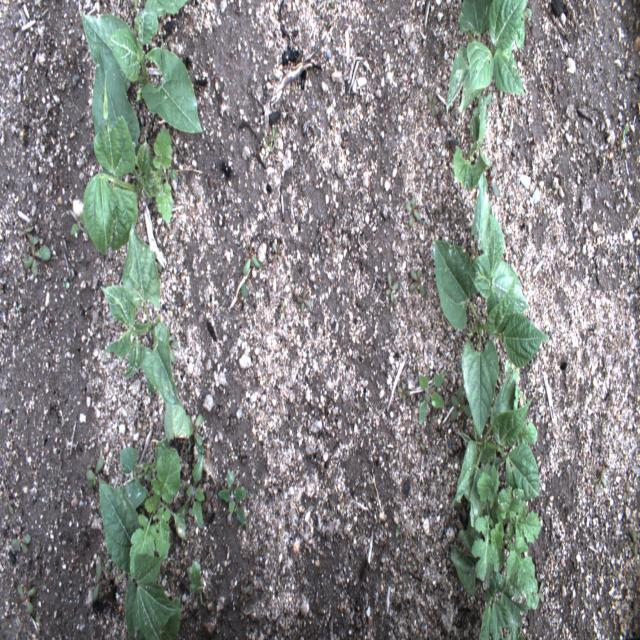crop: (434, 170, 550, 439), (100, 220, 190, 443), (83, 45, 161, 256), (450, 354, 540, 528), (99, 482, 179, 639), (446, 0, 526, 113), (450, 543, 530, 639), (453, 111, 490, 191), (144, 0, 189, 16), (134, 0, 138, 11)
weed: (80, 8, 204, 132), (460, 464, 542, 609), (117, 438, 190, 582), (140, 128, 178, 220), (217, 468, 249, 526), (418, 369, 447, 429), (183, 453, 204, 530), (22, 234, 52, 278), (90, 560, 111, 602), (161, 598, 182, 640), (450, 385, 472, 423), (86, 455, 108, 490), (17, 582, 37, 616), (242, 242, 261, 276), (185, 412, 203, 447), (472, 91, 492, 122), (69, 208, 90, 237), (188, 558, 204, 596), (516, 421, 538, 448), (405, 196, 422, 227), (409, 267, 426, 297), (591, 464, 607, 494), (10, 533, 32, 554), (384, 271, 398, 303), (488, 161, 500, 197), (164, 333, 178, 362), (17, 220, 34, 240), (297, 289, 312, 310), (426, 91, 438, 117), (238, 584, 252, 606), (397, 381, 411, 403), (194, 439, 205, 465), (24, 234, 39, 253), (3, 492, 15, 515), (270, 241, 282, 263), (414, 432, 426, 452), (628, 530, 638, 554), (520, 0, 532, 20), (152, 250, 162, 273), (445, 138, 456, 158), (623, 481, 632, 502), (269, 126, 277, 149), (263, 135, 273, 153), (622, 123, 630, 145), (241, 282, 248, 299), (409, 533, 418, 546), (279, 304, 286, 320), (395, 524, 400, 539)
